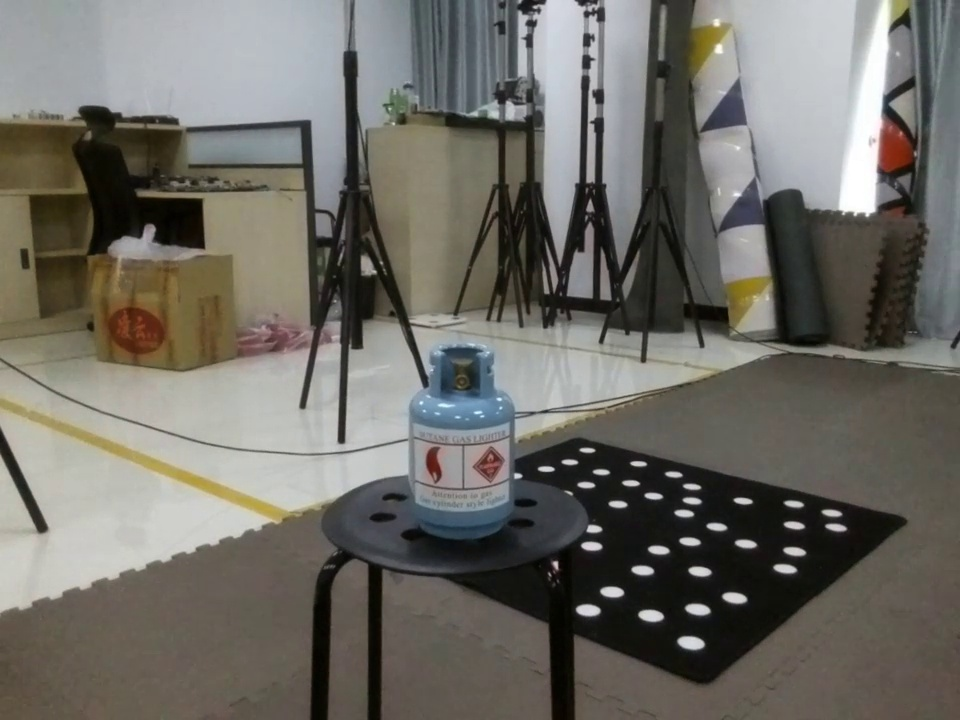gas tank: (396, 337, 538, 540)
